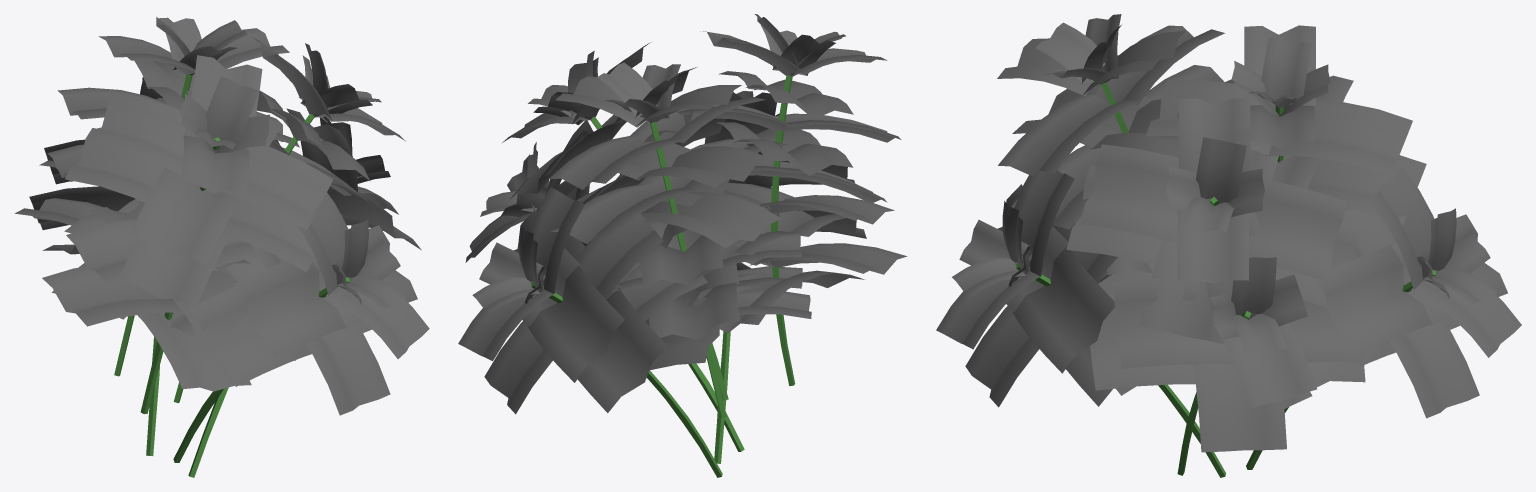
File: Mint.FBX
The picture shows the model from 3 angles, left to right: view 1: azimuth 30°, elevation 25°; view 2: azimuth 150°, elevation 25°; view 3: azimuth 270°, elevation 25°; orthographic projection. The views are drawn at different scales.
Visible parts, largest first — view 1: Plane097, Plane071, Plane074, Plane073, Plane093, Plane094, Plane086, Plane078, Plane070, Plane084, Plane069, Plane098 (+42 smaller); view 2: Plane130, Plane127, Plane032, Plane129, Plane024, Plane126, Plane040, Plane028, Plane027, Plane133, Plane037, Plane132 (+56 smaller); view 3: Plane131, Plane052, Plane051, Plane096, Plane028, Plane112, Plane117, Plane126, Plane073, Plane053, Plane118, Plane049 (+52 smaller).
Boxes of the visible parts, <box> form: Plane097: <box>235,261,345,357</box>; Plane071: <box>129,168,240,264</box>; Plane074: <box>88,91,198,185</box>; Plane073: <box>194,145,333,230</box>; Plane093: <box>189,286,311,386</box>; Plane094: <box>306,324,390,415</box>; Plane086: <box>42,266,183,326</box>; Plane078: <box>118,234,229,307</box>; Plane070: <box>65,128,164,202</box>; Plane084: <box>137,313,251,391</box>; Plane069: <box>222,198,314,272</box>; Plane098: <box>326,280,429,358</box>; Plane130: <box>528,265,624,382</box>; Plane127: <box>577,287,667,412</box>; Plane032: <box>642,192,781,247</box>; Plane129: <box>576,213,663,299</box>; Plane024: <box>550,184,701,243</box>; Plane126: <box>484,321,552,414</box>; Plane040: <box>648,282,739,339</box>; Plane028: <box>549,135,684,189</box>; Plane027: <box>633,146,770,187</box>; Plane133: <box>529,187,584,294</box>; Plane037: <box>640,235,723,285</box>; Plane132: <box>458,289,553,361</box>; Plane131: <box>1315,244,1431,356</box>; Plane052: <box>1080,144,1178,243</box>; Plane051: <box>1249,179,1347,281</box>; Plane096: <box>1012,246,1114,373</box>; Plane028: <box>1265,100,1412,176</box>; Plane112: <box>1193,364,1286,452</box>; Plane117: <box>1112,278,1234,368</box>; Plane126: <box>1389,320,1479,418</box>; Plane073: <box>998,95,1141,176</box>; Plane053: <box>1177,210,1248,283</box>; Plane118: <box>1212,322,1316,407</box>; Plane049: <box>1139,239,1224,344</box>.
Size of the model in its own units: 153 by 163 by 192.
